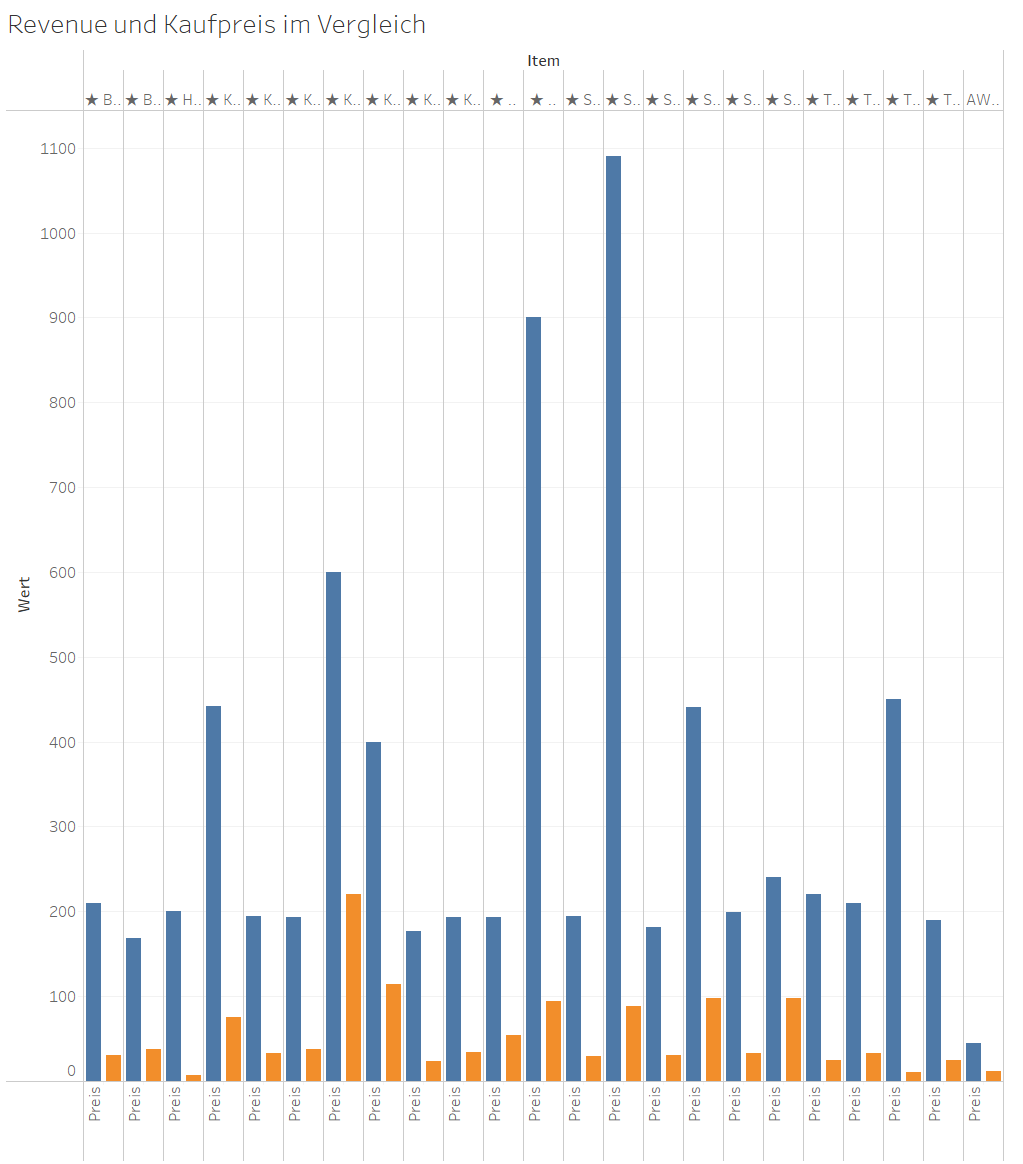

This screenshot's page, from the dashboard's own definition file:
{"tool":"tableau","page":{"name":"Dashboard 1","canvas":[1000,800],"ordinal":0},"visuals":[{"type":"worksheet","title":"Blatt 1","mark":"Automatic","rows":["Item"],"box":[8,8,984,784]}]}

Visuals, with their boxes on the page's 1000x800 design canvas (x1, y1, x2, y2). These are canvas units, not pixel positions in the 1023x1164 screenshot, which may show the page scaled, cropped or inside an application window:
"Blatt 1" worksheet: BBox(8, 8, 992, 792)
